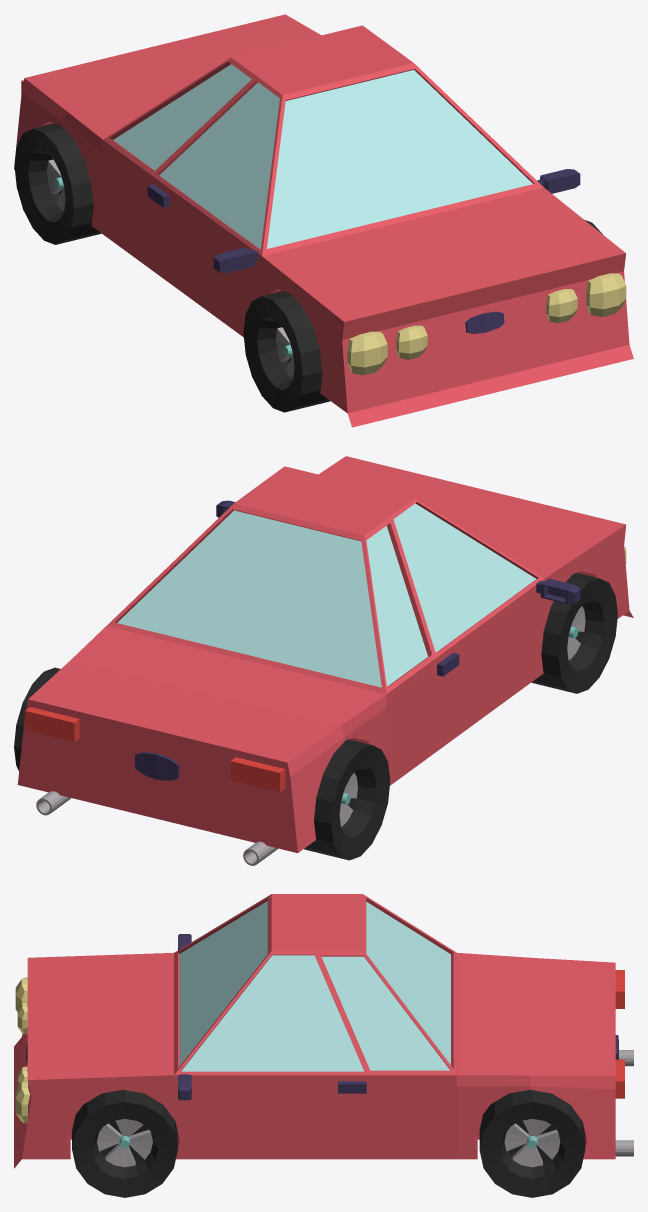
Rendered from Car1.fbx.
3 renders of one model, top to bottom at view 1: azimuth 30°, elevation 25°; view 2: azimuth 150°, elevation 25°; view 3: azimuth 270°, elevation 25°, orthographic. The views are drawn at different scales.
Parts seen in each view (by area): view 1: Car1, RR_C1, FL_C1; view 2: Car1, RR_C1, FL_C1, RL_C1; view 3: Car1, RL_C1, FR_C1.
Part boxes in pixels (x1,y1,x2,y2): Car1: [14, 14, 633, 427]; RR_C1: [14, 123, 101, 244]; FL_C1: [243, 291, 329, 412]; Car1: [17, 456, 633, 865]; RR_C1: [304, 739, 390, 860]; FL_C1: [531, 572, 617, 693]; RL_C1: [14, 667, 60, 770]; Car1: [14, 894, 633, 1168]; RL_C1: [479, 1089, 585, 1197]; FR_C1: [72, 1089, 177, 1197].
Size of the model in its own units: 189 by 115 by 316.
